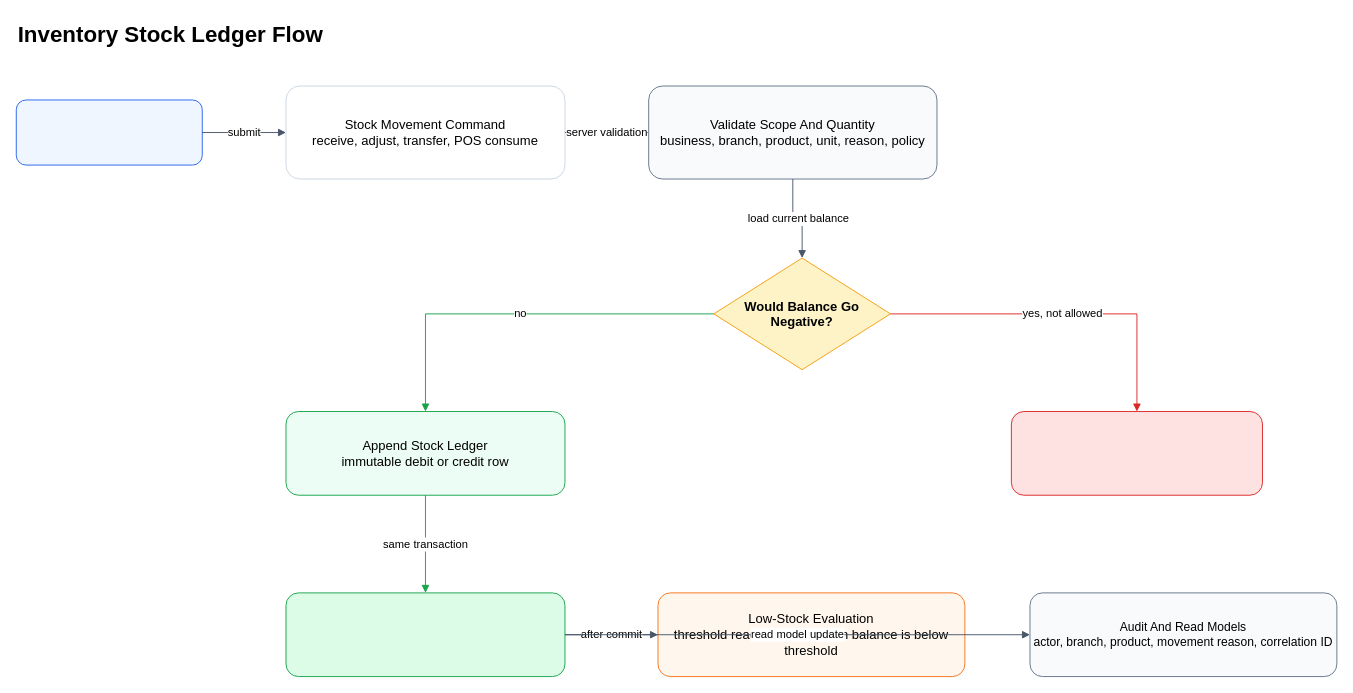
The diagram is 1353 pixels wide and 693 high, and some of its shapes have lost their labels. Here are the shapes that lost their labels. From the top down, the centre of each, then its label:
At [108,132]: "Owner / Manager".
At [1136,453]: "409 Stock Insufficient or 400 reason missing".
At [425,634]: "Update Branch Balance derived current stock by product and branch".
